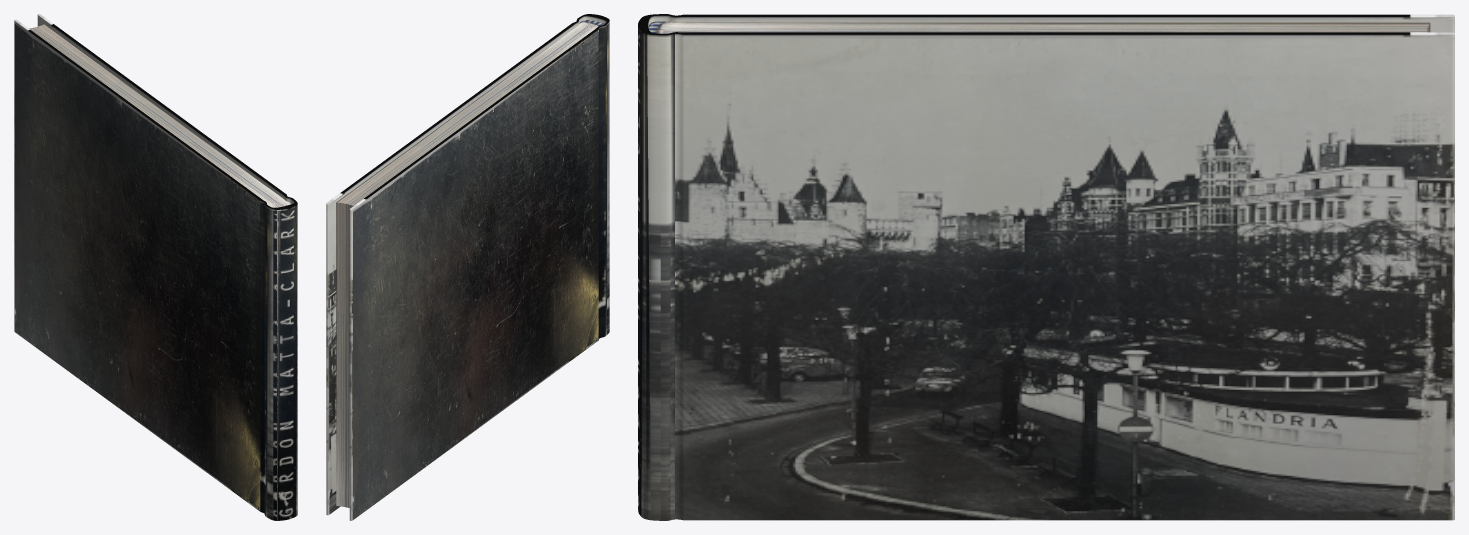
Rendered from 8_Crawford Matta_Clark_Jane.glb.
3 views of the same model, side by side, from view 1: azimuth 30°, elevation 25°; view 2: azimuth 150°, elevation 25°; view 3: azimuth 270°, elevation 25° (orthographic). The views are drawn at different scales.
Visible parts, largest first — view 1: Object_42.004; view 2: Object_42.004; view 3: Object_42.004.
Part boxes in pixels (bbox=[...]): Object_42.004: bbox=[14, 14, 297, 520]; Object_42.004: bbox=[326, 14, 609, 520]; Object_42.004: bbox=[638, 14, 1454, 520].
Bounding box in the file's own units: 0.0129 × 0.1379 × 0.21.
2 materials, 2 textured.
